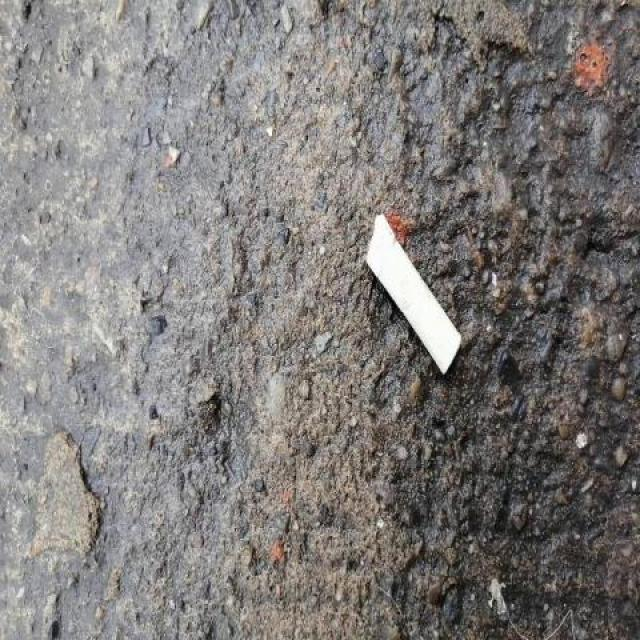non-organic waste: (356, 210, 472, 390)
